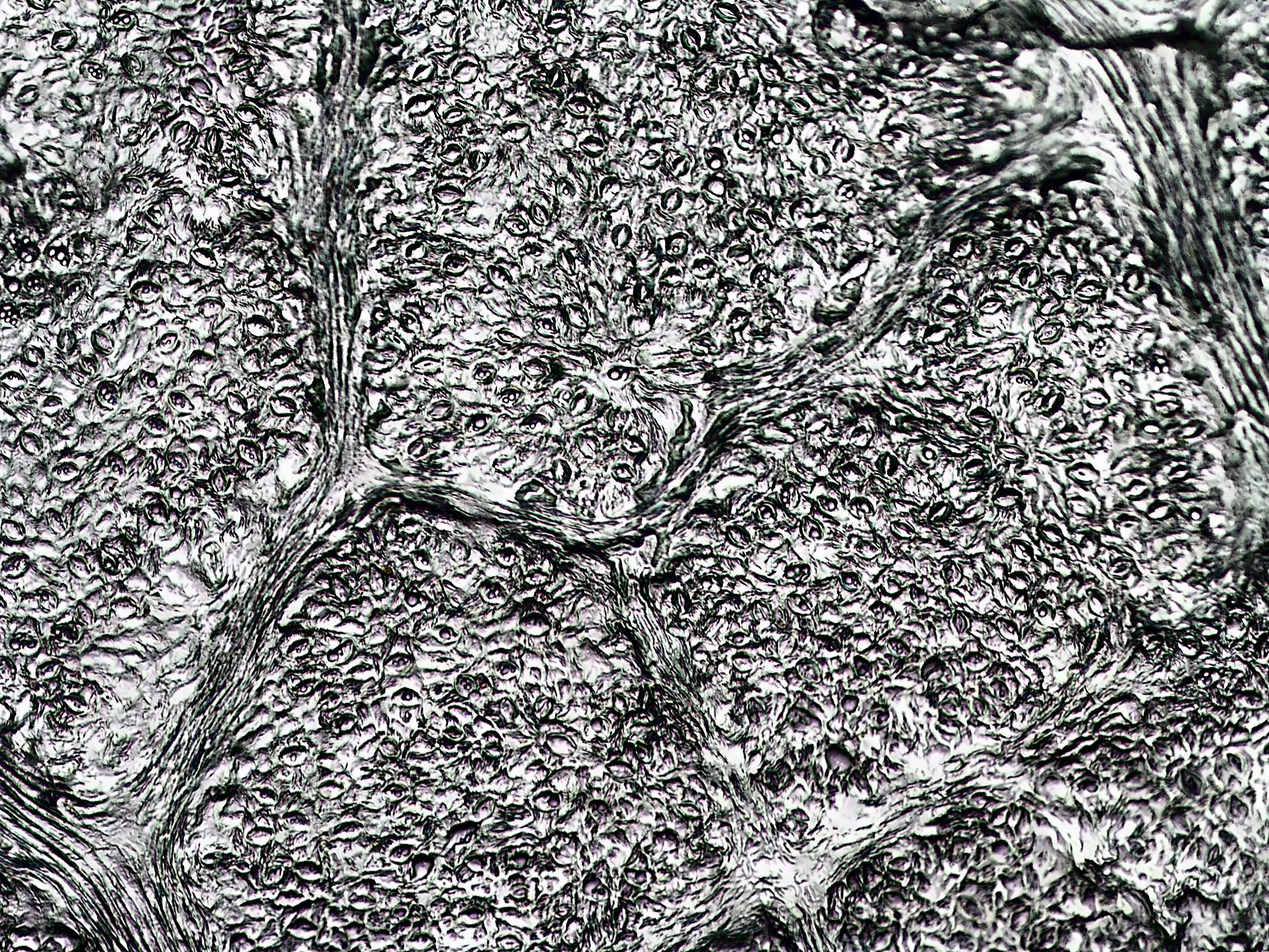stomata: (972, 60, 1020, 86), (1027, 319, 1068, 347), (938, 555, 967, 592), (10, 621, 41, 655), (1119, 263, 1150, 297), (845, 770, 877, 801), (1033, 288, 1066, 318), (202, 545, 228, 583), (477, 577, 511, 606), (1077, 384, 1111, 413), (794, 656, 825, 687), (1111, 512, 1146, 539), (381, 838, 417, 864), (1065, 462, 1104, 486), (1070, 279, 1108, 303), (933, 142, 969, 167), (454, 671, 483, 702), (723, 522, 755, 550), (223, 389, 256, 416), (545, 730, 578, 757), (403, 91, 437, 117), (886, 515, 921, 540), (367, 560, 390, 598), (1177, 767, 1207, 796), (1121, 474, 1152, 502), (801, 513, 827, 546), (866, 707, 900, 732), (778, 478, 803, 512), (109, 595, 144, 619), (33, 659, 68, 683), (919, 655, 949, 683), (49, 620, 80, 647), (1111, 370, 1138, 401), (597, 30, 633, 53), (432, 183, 466, 207), (399, 587, 433, 611), (523, 612, 551, 641), (652, 751, 681, 779), (786, 590, 815, 618), (1084, 588, 1111, 618), (1015, 258, 1041, 289), (1238, 686, 1269, 712), (383, 652, 418, 675), (94, 381, 122, 409), (1223, 749, 1251, 777), (450, 59, 479, 86), (462, 412, 493, 437), (48, 27, 79, 52), (1067, 495, 1098, 520), (993, 618, 1024, 643), (502, 803, 534, 827), (1176, 419, 1208, 443), (406, 356, 446, 375), (710, 1, 743, 24), (236, 439, 264, 466), (949, 234, 976, 262), (1003, 365, 1039, 386), (846, 493, 875, 519), (650, 201, 680, 226), (243, 314, 273, 339), (988, 279, 1018, 304), (105, 8, 139, 30), (138, 415, 172, 437), (930, 265, 964, 287), (482, 84, 506, 115), (188, 246, 219, 270), (138, 451, 162, 482), (880, 125, 912, 148), (1079, 530, 1102, 562), (568, 388, 594, 416), (406, 433, 432, 461), (493, 657, 521, 683), (519, 358, 552, 380), (834, 461, 863, 486), (443, 294, 473, 318), (744, 208, 774, 232), (313, 689, 343, 713), (1035, 521, 1065, 545), (405, 59, 436, 82), (856, 90, 887, 113), (724, 242, 755, 265), (439, 252, 471, 274), (274, 745, 306, 767), (936, 294, 968, 316), (516, 415, 553, 434), (91, 329, 117, 356), (1009, 538, 1036, 564), (566, 301, 591, 329), (790, 708, 818, 733), (814, 490, 842, 515), (1085, 335, 1113, 360), (207, 466, 231, 495), (753, 498, 777, 527), (1021, 211, 1045, 240), (1106, 557, 1135, 581), (961, 651, 994, 672), (791, 197, 814, 227), (922, 324, 952, 347), (893, 57, 923, 80), (1135, 417, 1165, 440), (864, 928, 894, 951), (397, 687, 416, 723), (555, 245, 577, 276), (56, 189, 87, 211), (994, 443, 1028, 463), (757, 57, 783, 83), (655, 61, 682, 86), (1155, 395, 1182, 420), (761, 298, 789, 322), (2, 553, 30, 577), (565, 95, 594, 118), (59, 693, 88, 716), (1227, 793, 1250, 822), (129, 280, 162, 300), (269, 394, 299, 416), (331, 820, 364, 840), (990, 487, 1023, 507), (881, 887, 911, 909), (605, 364, 636, 385), (429, 6, 460, 27), (194, 296, 225, 317), (280, 810, 311, 831), (830, 134, 855, 160), (33, 587, 58, 613), (491, 543, 517, 568), (702, 148, 729, 172), (724, 307, 751, 331), (121, 174, 148, 198), (60, 91, 87, 115), (65, 554, 92, 578), (947, 608, 971, 635), (604, 761, 638, 780), (501, 121, 529, 144), (718, 67, 741, 95), (832, 180, 860, 203), (185, 517, 208, 545), (289, 675, 317, 698), (1146, 499, 1174, 522), (690, 257, 719, 279), (328, 574, 350, 603), (1010, 905, 1032, 934), (424, 399, 454, 420), (385, 390, 415, 411), (576, 434, 601, 459), (487, 263, 512, 288), (70, 233, 95, 258), (20, 430, 45, 455), (407, 548, 432, 573), (1041, 390, 1066, 415), (530, 201, 554, 227), (121, 52, 145, 78), (1145, 353, 1171, 377), (958, 895, 984, 919), (434, 142, 461, 165), (232, 103, 263, 123), (964, 406, 995, 426), (836, 570, 864, 592), (783, 560, 811, 582), (285, 919, 319, 937), (36, 144, 65, 165), (884, 637, 913, 658), (459, 907, 491, 926), (748, 262, 772, 287), (532, 790, 562, 810), (494, 932, 524, 952), (1052, 272, 1076, 297), (1034, 601, 1058, 626), (549, 458, 572, 484), (679, 26, 702, 52), (169, 119, 192, 145), (165, 451, 191, 474), (410, 856, 433, 882), (611, 905, 634, 931), (848, 425, 874, 448), (104, 451, 126, 478), (292, 861, 323, 880), (533, 316, 561, 337), (727, 207, 748, 235), (204, 125, 225, 153), (77, 60, 105, 81), (168, 391, 196, 412), (249, 784, 278, 804), (687, 337, 716, 357), (48, 463, 82, 480), (241, 826, 275, 843), (660, 187, 684, 211), (345, 662, 377, 680), (271, 347, 296, 370), (1, 520, 26, 543), (378, 738, 403, 761), (917, 440, 940, 465), (610, 462, 636, 484), (144, 501, 170, 523), (852, 654, 874, 680), (1177, 633, 1203, 655), (1209, 684, 1231, 710), (100, 537, 130, 556), (579, 136, 606, 157), (20, 344, 47, 365), (498, 697, 519, 724), (1211, 796, 1232, 823), (468, 146, 488, 174), (316, 754, 344, 774), (878, 452, 898, 480), (126, 227, 157, 245), (460, 854, 491, 872), (685, 283, 709, 306), (636, 685, 659, 709), (553, 845, 577, 868), (869, 599, 892, 623), (620, 434, 649, 453), (553, 176, 575, 201), (707, 214, 729, 239), (736, 125, 758, 150), (96, 476, 121, 498), (403, 614, 428, 636), (752, 599, 774, 624), (1076, 775, 1101, 797), (57, 328, 78, 354), (1011, 345, 1032, 371), (963, 457, 989, 478), (1037, 926, 1058, 952), (637, 224, 657, 251), (25, 489, 43, 519), (449, 537, 469, 564), (673, 588, 693, 615), (697, 573, 724, 593), (12, 85, 40, 104), (47, 507, 66, 535), (854, 539, 882, 558), (669, 154, 692, 177), (288, 636, 311, 659), (928, 500, 951, 523), (142, 204, 166, 226), (241, 350, 263, 374), (137, 369, 161, 391), (610, 690, 632, 714), (1003, 237, 1025, 261), (1006, 570, 1030, 592), (346, 891, 377, 908), (15, 242, 40, 263), (871, 167, 900, 185), (165, 45, 194, 63), (494, 387, 521, 406), (493, 328, 520, 347), (441, 107, 468, 126), (1016, 809, 1035, 836), (415, 296, 438, 318), (598, 176, 620, 199), (610, 222, 631, 246), (804, 84, 828, 105), (154, 332, 178, 353), (0, 371, 28, 389), (177, 487, 198, 511), (632, 740, 653, 764), (1108, 733, 1136, 751), (544, 13, 569, 33), (0, 303, 20, 328), (714, 279, 740, 298), (331, 714, 357, 733), (804, 417, 833, 434), (149, 101, 176, 119), (474, 796, 492, 823), (817, 637, 844, 655), (702, 184, 724, 206), (664, 723, 686, 745), (700, 615, 722, 637), (530, 696, 551, 719), (961, 502, 984, 523), (1195, 666, 1218, 687), (811, 153, 831, 177), (810, 220, 834, 240), (47, 246, 71, 266), (5, 483, 25, 507), (405, 933, 433, 950), (470, 364, 495, 383), (403, 242, 428, 261), (799, 121, 818, 146), (227, 53, 252, 72), (188, 353, 213, 372), (1123, 769, 1148, 788), (518, 242, 544, 260), (657, 267, 683, 285), (505, 885, 531, 903), (314, 781, 343, 797), (725, 631, 754, 647), (399, 311, 421, 332), (61, 282, 82, 304), (261, 864, 283, 885), (731, 652, 752, 674), (1175, 812, 1197, 833), (638, 149, 661, 169), (23, 274, 46, 294), (382, 782, 405, 802), (782, 812, 802, 835), (502, 217, 529, 234), (978, 298, 1005, 315), (1039, 357, 1066, 374), (188, 76, 212, 95), (435, 623, 459, 642), (612, 931, 638, 948), (909, 584, 926, 610), (545, 66, 566, 87), (386, 332, 408, 352), (667, 235, 687, 257), (1141, 632, 1163, 652), (556, 130, 579, 149), (816, 73, 839, 92), (39, 397, 62, 416), (1016, 389, 1039, 408), (1061, 576, 1080, 599), (77, 355, 101, 373), (325, 645, 350, 662), (408, 738, 433, 755), (216, 18, 244, 33), (385, 519, 401, 545), (416, 635, 442, 651), (633, 279, 651, 302), (888, 856, 911, 874), (441, 725, 465, 742), (486, 822, 515, 836), (777, 159, 802, 175), (969, 694, 985, 719), (517, 32, 538, 51), (697, 101, 716, 122), (527, 665, 546, 686), (679, 802, 701, 820), (1134, 930, 1152, 952), (216, 169, 240, 185), (312, 928, 333, 946), (777, 634, 794, 656), (763, 637, 779, 660), (883, 578, 903, 596), (508, 851, 529, 868), (827, 897, 844, 918), (454, 868, 477, 883), (483, 744, 504, 760), (257, 934, 281, 948), (858, 861, 872, 885), (991, 808, 1007, 829), (494, 778, 513, 795), (16, 408, 39, 422), (771, 125, 786, 146), (232, 859, 253, 874), (765, 769, 777, 795), (834, 882, 848, 904), (122, 127, 141, 143), (789, 96, 809, 111), (199, 850, 220, 864), (1128, 835, 1146, 851), (852, 903, 871, 918), (1209, 843, 1221, 866), (849, 872, 862, 892), (769, 179, 781, 199), (1146, 837, 1157, 856), (1009, 810, 1019, 830)
